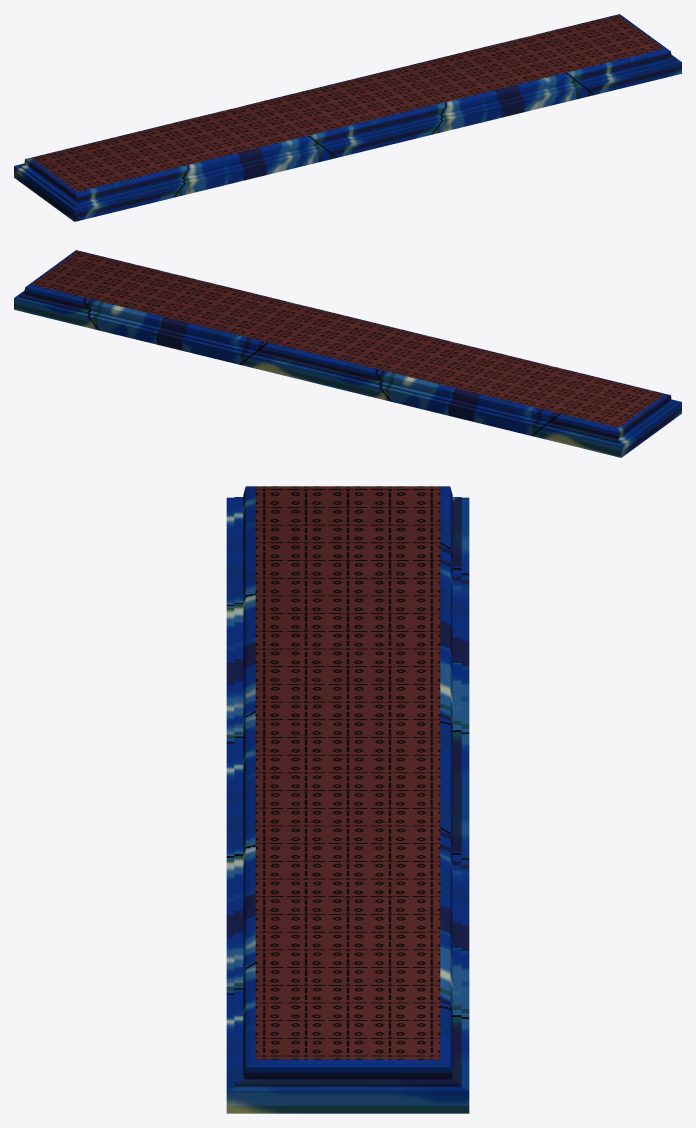
File: Amgnetic Field Marker.fbx
3 renders of one model, top to bottom at view 1: azimuth 30°, elevation 25°; view 2: azimuth 150°, elevation 25°; view 3: azimuth 270°, elevation 25°, orthographic. The views are drawn at different scales.
Visible parts, largest first — view 1: Cube; view 2: Cube; view 3: Cube.
Part boxes in pixels (left/top/right/bottom): Cube: left=14, top=14, right=681, bottom=221; Cube: left=14, top=250, right=681, bottom=457; Cube: left=226, top=486, right=469, bottom=1113.
Bounding box in the file's own units: 6950 × 243 × 1201.
